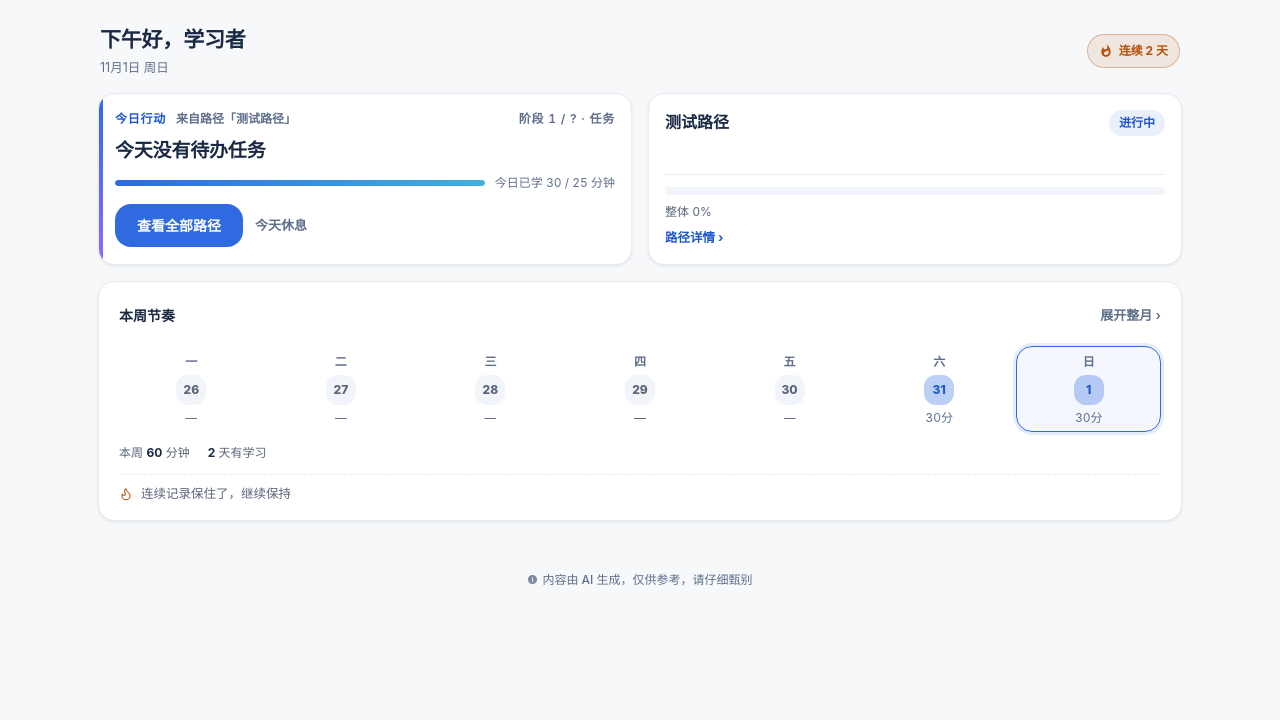
Test: 跨月边界：本月摘要只含当前自然月 › 跨月连续两天都学：分钟与天数都算两天
Click the button "展开整月 ›": click(1131, 316) [1100, 298, 1161, 334]
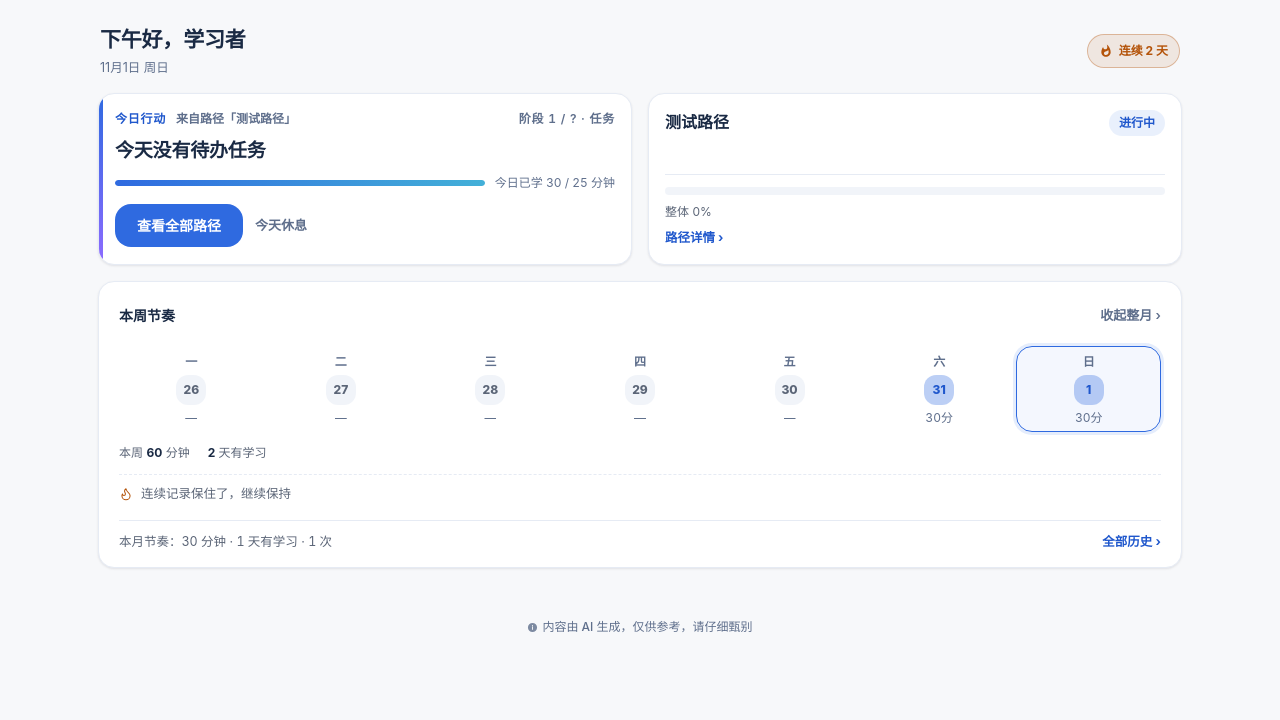
Expected: the element with class "streak" reads "连续 2 天", [1119, 43, 1168, 58]
Result: the element with class "month-summary" shows "本月节奏：30 分钟" at [119, 534, 332, 549]
Result: the element with class "month-summary" shows "1 天有学习" at [119, 534, 332, 549]
